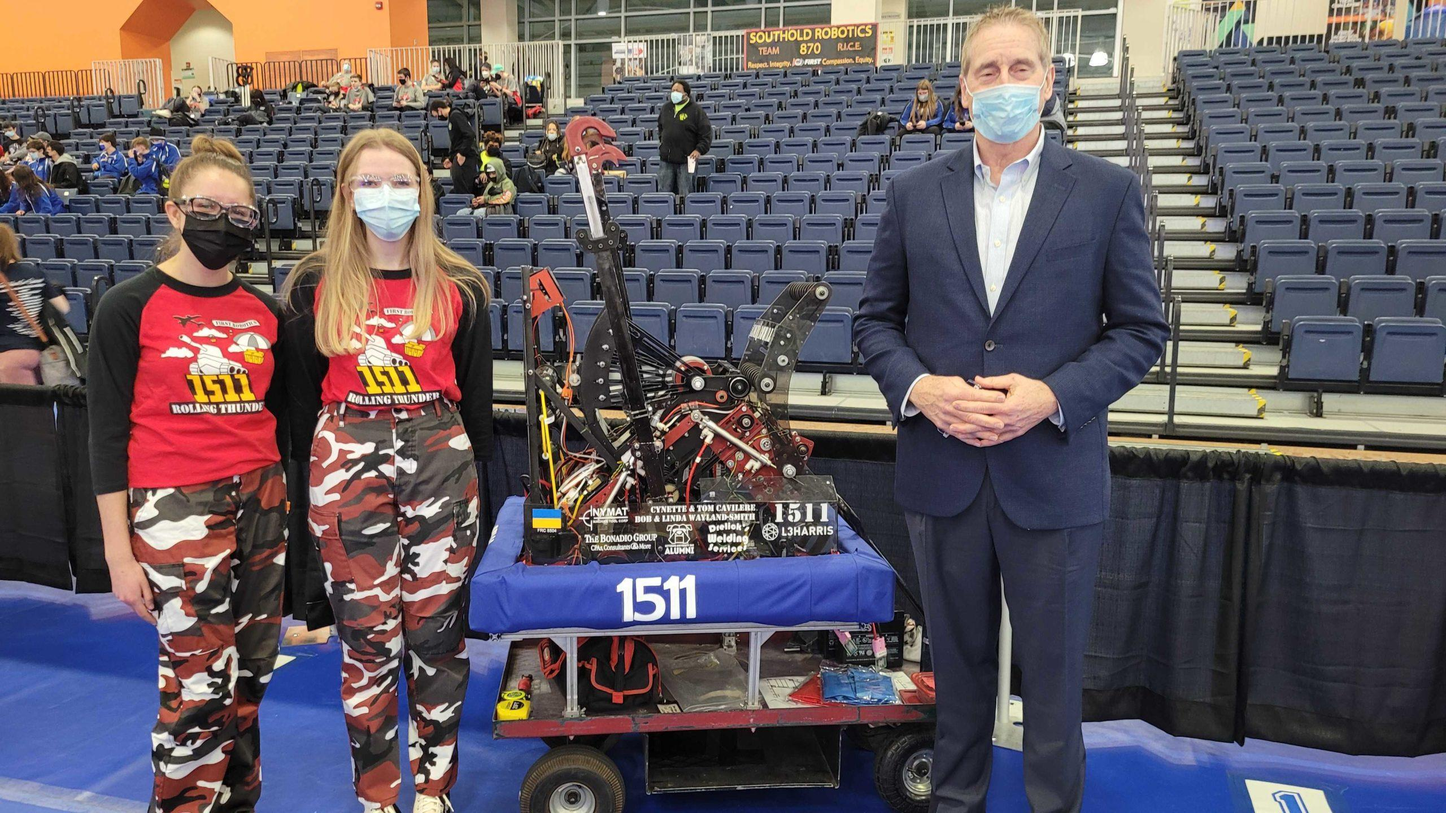robot: (460, 106, 911, 641)
